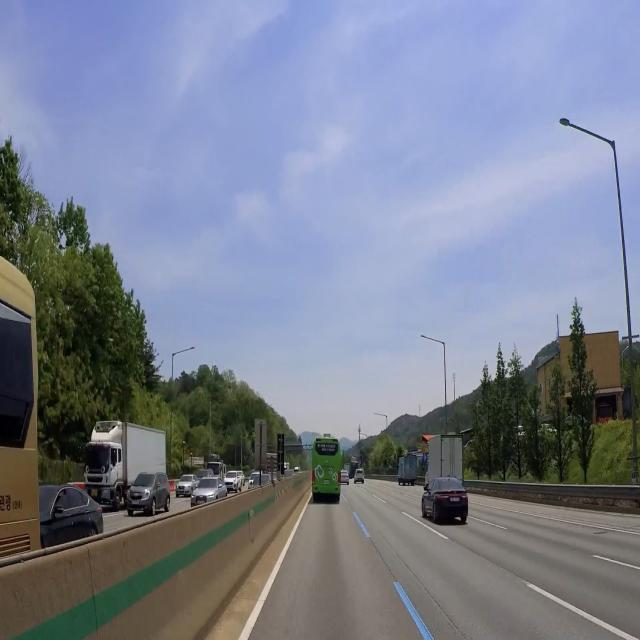car: (447, 495, 464, 506), (322, 478, 331, 490)
